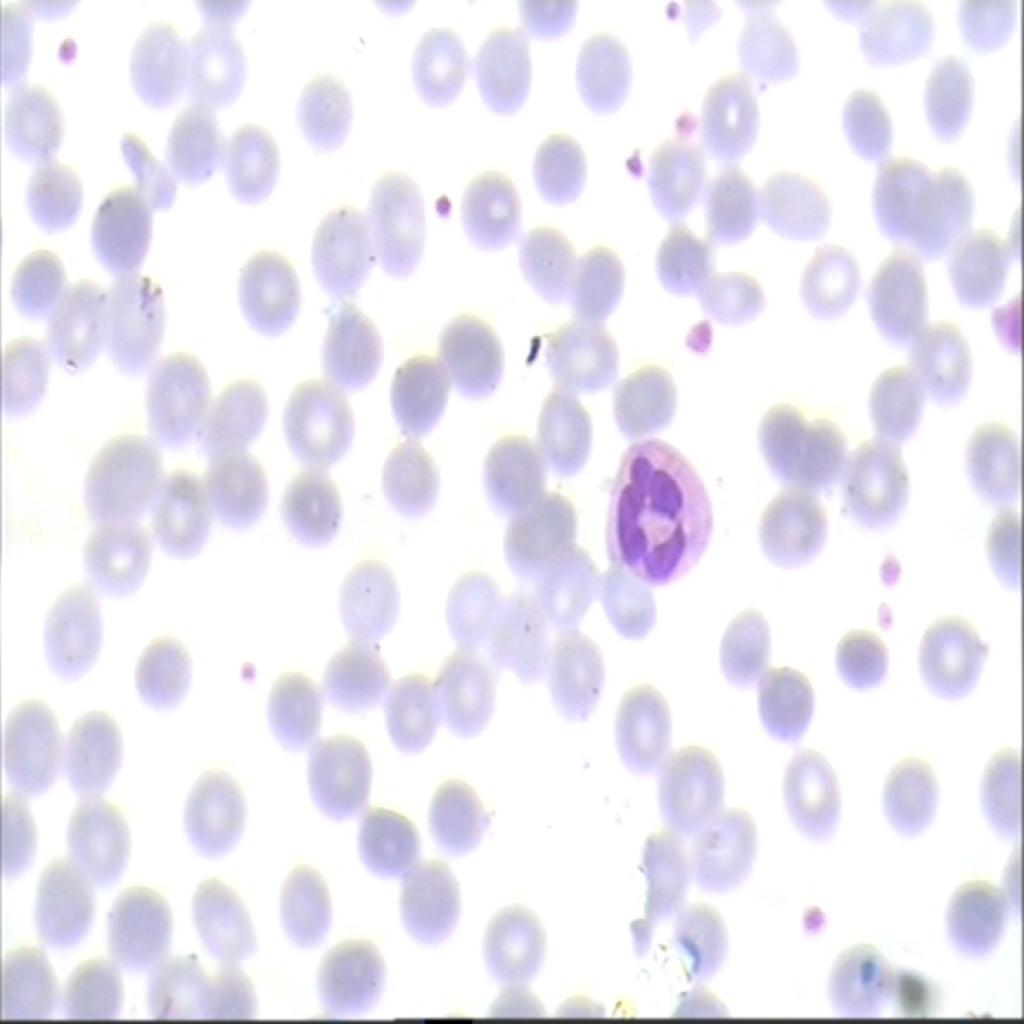Neutrofil: (597, 427, 717, 590)
Platelet: (45, 18, 94, 74), (612, 140, 667, 188), (424, 174, 461, 230), (637, 0, 691, 28), (678, 313, 716, 352), (795, 905, 826, 949), (866, 594, 895, 640), (869, 551, 900, 592), (672, 103, 706, 133)
